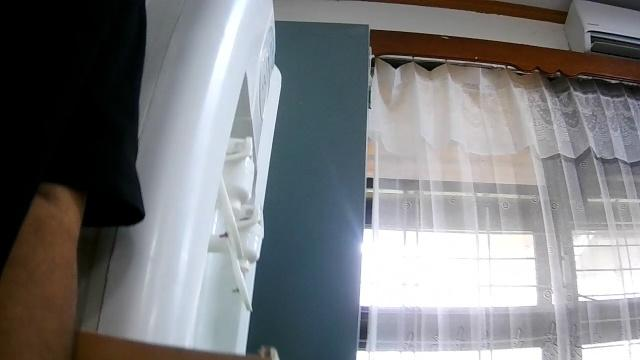AC: (562, 0, 639, 60)
Dispenser: (118, 0, 282, 357)
